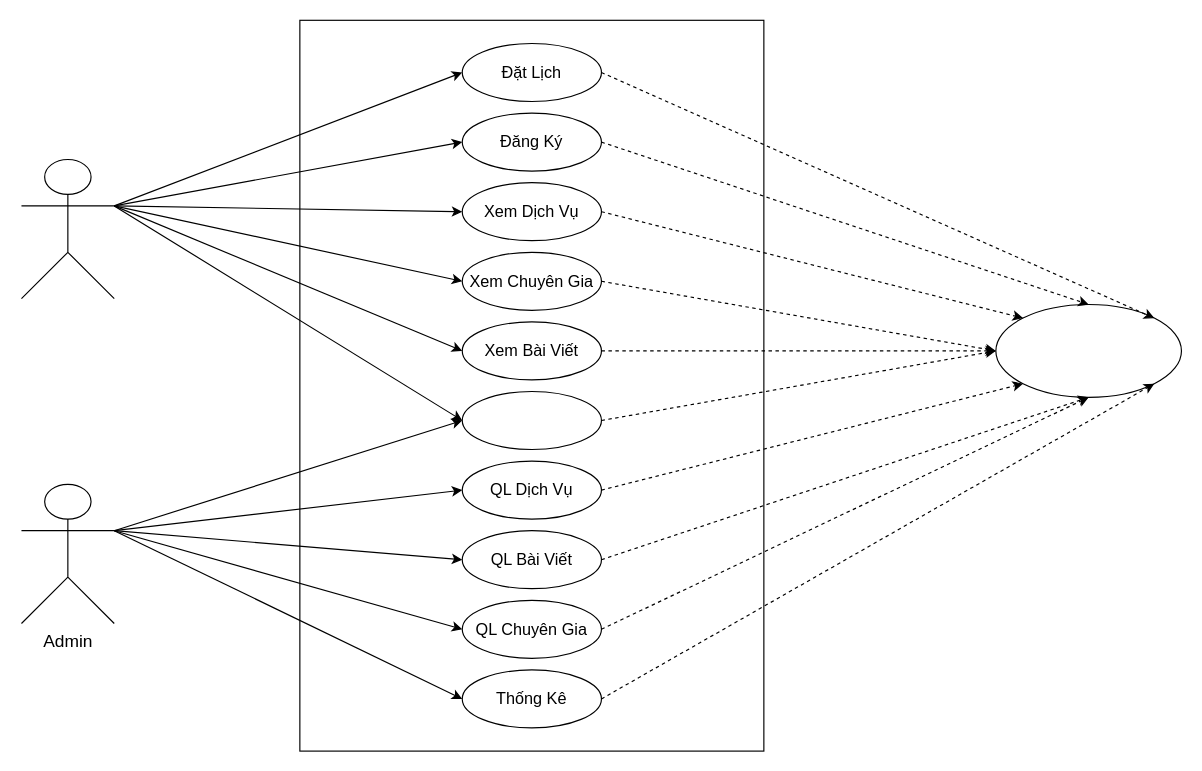
The diagram is 1202 pixels wide and 771 high, and some of its shapes have lost their labels. The box of each missing label's shape, as (x1, y1, x2, y2) in pixels:
Khách Hàng: (20, 158, 114, 299)
Xác Thực: (995, 303, 1181, 397)
Đăng Nhập: (461, 390, 601, 449)
